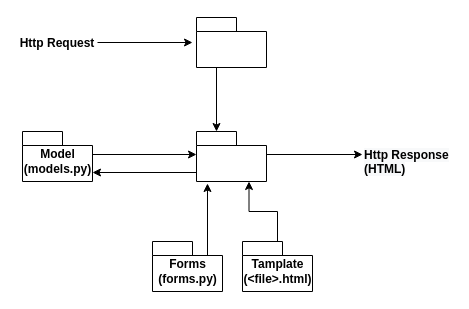
Some shapes in this 469 by 309 pixel diagram are drawn without their labels. Here are the shapes that lost their labels. From the top down, the centre of each, then its label:
At point 231,42: "URLS (urls.py)".
At point 231,156: "VIEW (views.py)".
